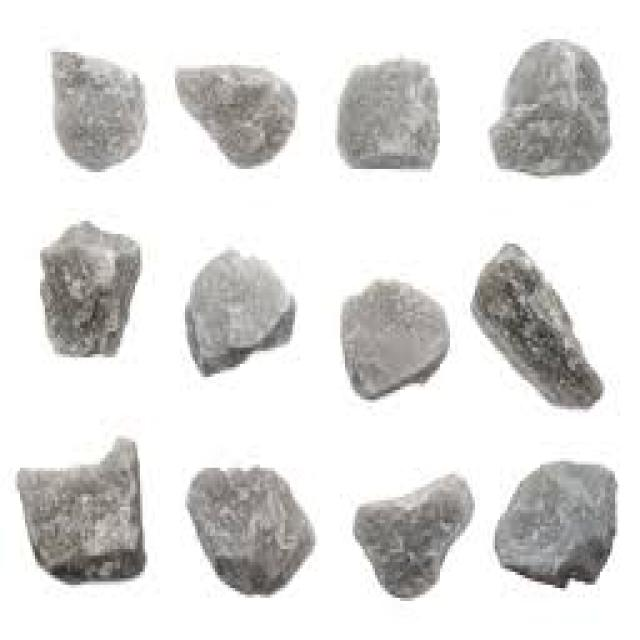Metamorphic: (470, 240, 615, 410), (17, 188, 145, 360), (10, 436, 160, 582), (488, 445, 622, 601), (190, 468, 322, 601), (485, 36, 610, 175), (320, 273, 458, 393), (352, 462, 468, 604), (40, 32, 150, 169), (170, 49, 295, 169), (178, 231, 288, 367), (335, 58, 445, 169)
